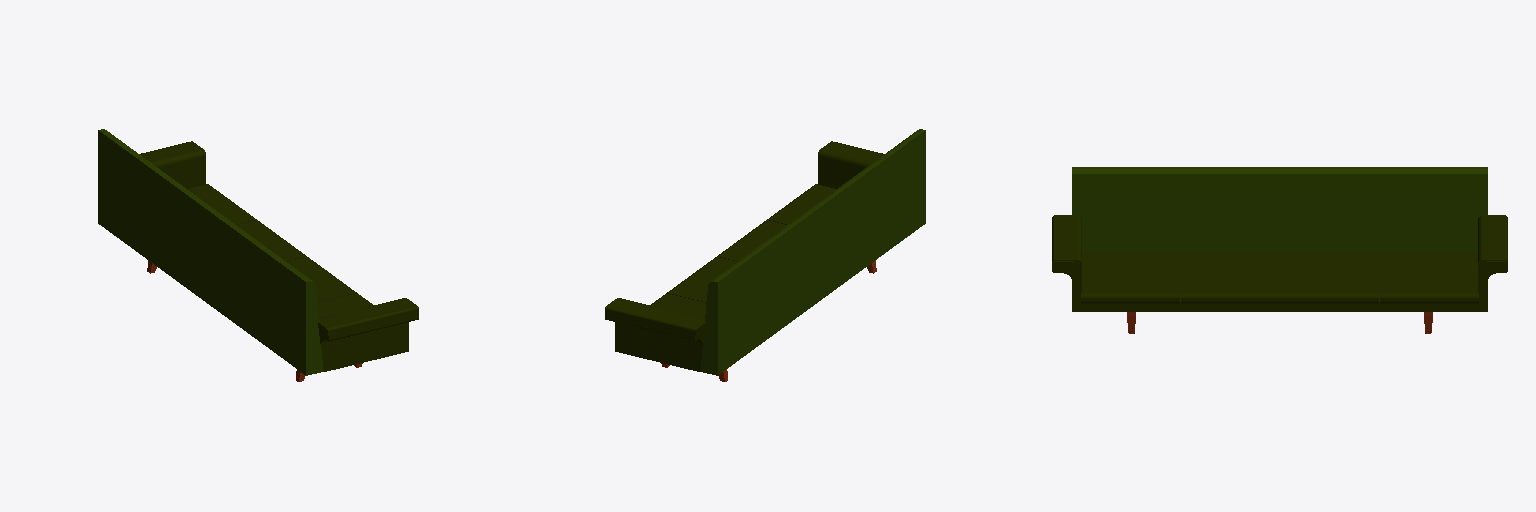
The model's file is Sofa.obj.
3 views of the same model, side by side, from view 1: azimuth 30°, elevation 25°; view 2: azimuth 150°, elevation 25°; view 3: azimuth 270°, elevation 25° (orthographic).
Visible parts, largest first — view 1: Sofa_Sofa.001; view 2: Sofa_Sofa.001; view 3: Sofa_Sofa.001.
Boxes of the visible parts, box(x1,y1,x2,y2) form: Sofa_Sofa.001: box(98, 129, 418, 381); Sofa_Sofa.001: box(605, 129, 925, 381); Sofa_Sofa.001: box(1052, 167, 1507, 333).
Bounding box in the file's own units: 2.5 × 2.8 × 9.2.